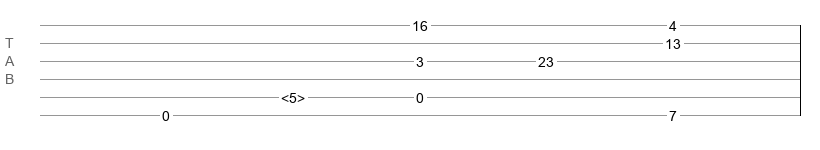0: (162, 108, 170, 118), (416, 90, 424, 100)
13: (665, 36, 681, 46)
16: (412, 18, 428, 28)
23: (538, 54, 554, 64)
3: (416, 54, 424, 64)
4: (669, 18, 677, 28)
7: (669, 108, 677, 118)
harmonic: (281, 90, 305, 100)
